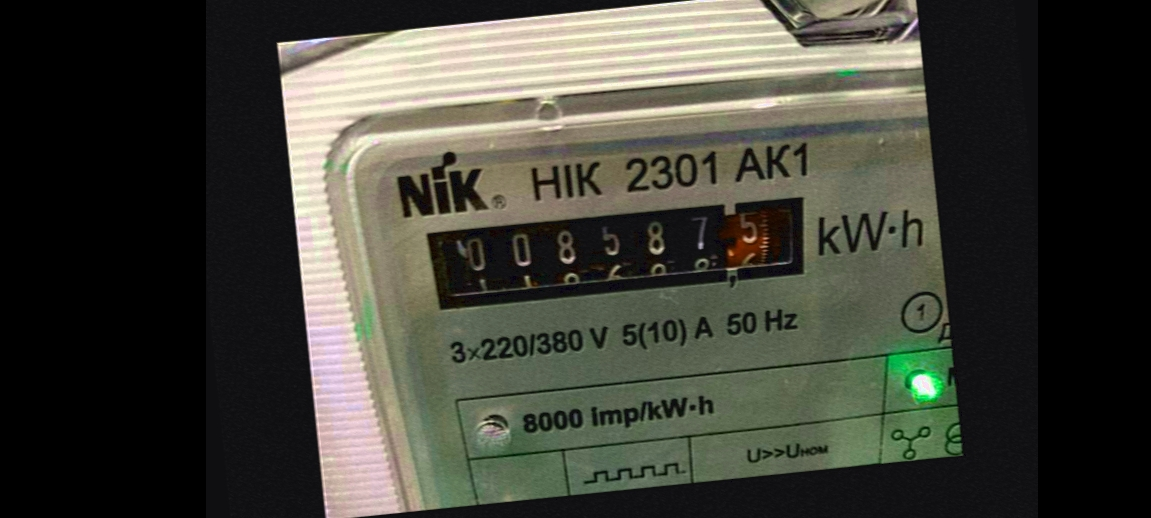0: (510, 229, 538, 271)
1: (464, 234, 492, 277)
5: (738, 207, 766, 249), (600, 221, 627, 261)
7: (689, 213, 716, 256)
8: (554, 227, 583, 270), (645, 218, 670, 261)
screen: (407, 175, 835, 335)
